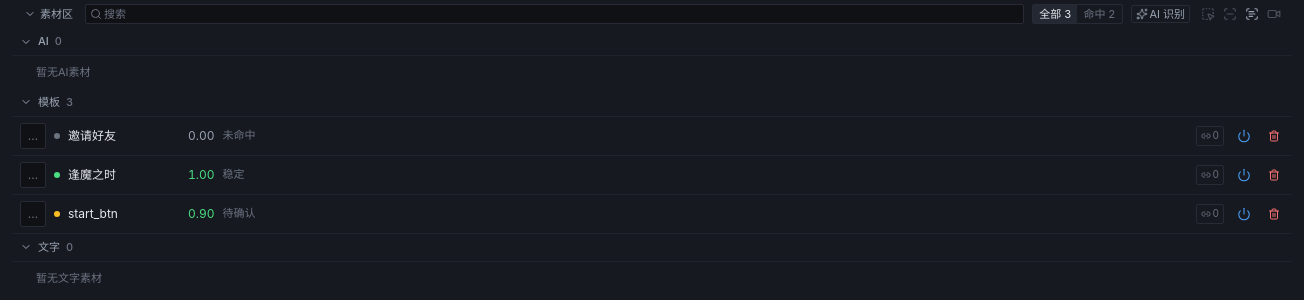
Scenario: 素材区：搜索 › 标题行有搜索框；拆词 / 拼音能找到相近的素材
Step 1. Type "start" into the field with test id "material-search" → coordinates (562, 14), box [104,5,1019,23]
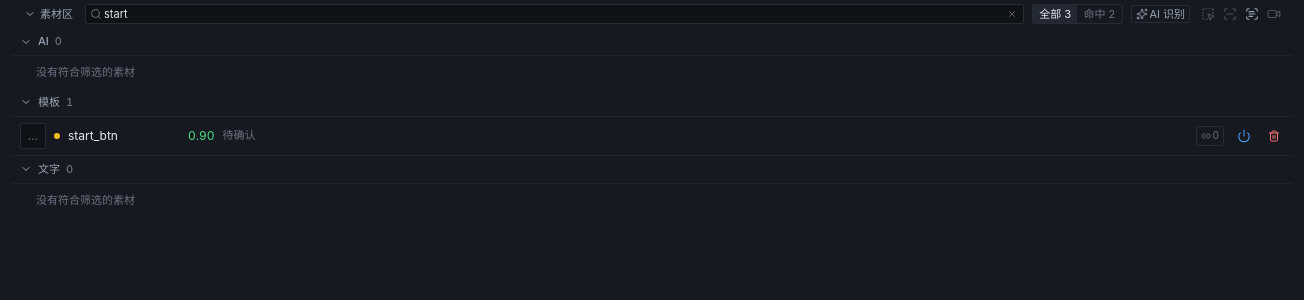
Expected: the elements with test id "recognizer-name" read "start_btn", in this order, [68,126,180,144]
Step 2. Replace the text in the field with test id "material-search" with "yaoqing" → coordinates (554, 14), box [104,5,1003,23]
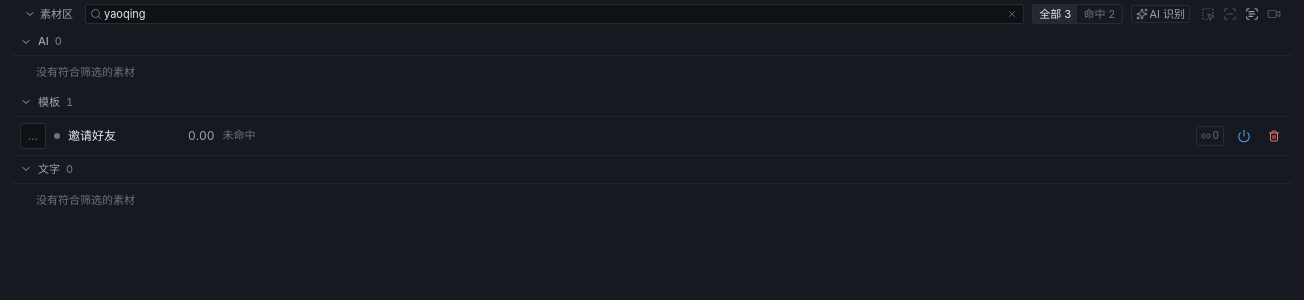
Expected: the elements with test id "recognizer-name" read "邀请好友", in this order, [68,126,180,144]
Step 3. Replace the text in the field with test id "material-search" with "zzzz" → coordinates (554, 14), box [104,5,1003,23]
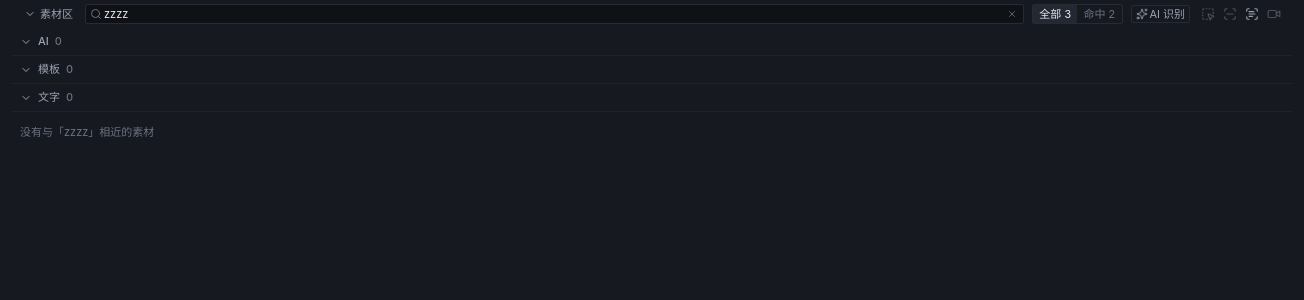
Expected: the button with test id "recognizer-name" is gone
Expected: the text "没有与「zzzz」相近的素材" is shown, [20,125,154,139]
